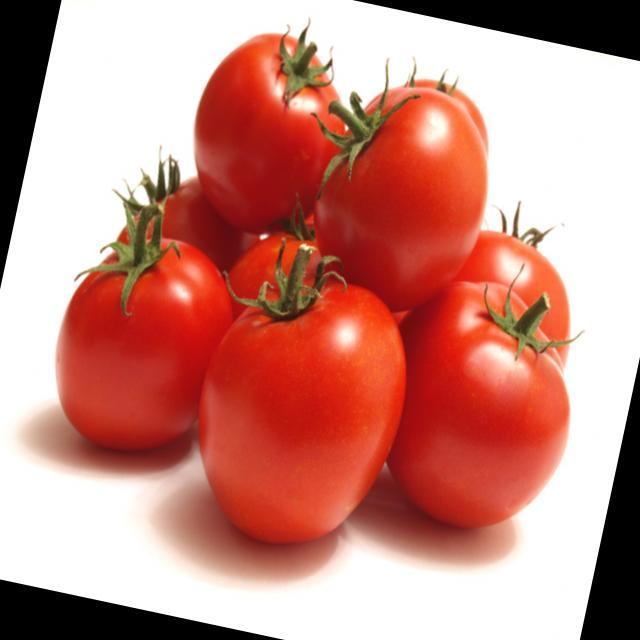TOMATO: (177, 277, 417, 564), (379, 266, 596, 556), (302, 68, 509, 320), (34, 202, 236, 460), (178, 20, 370, 248), (452, 176, 592, 332)
